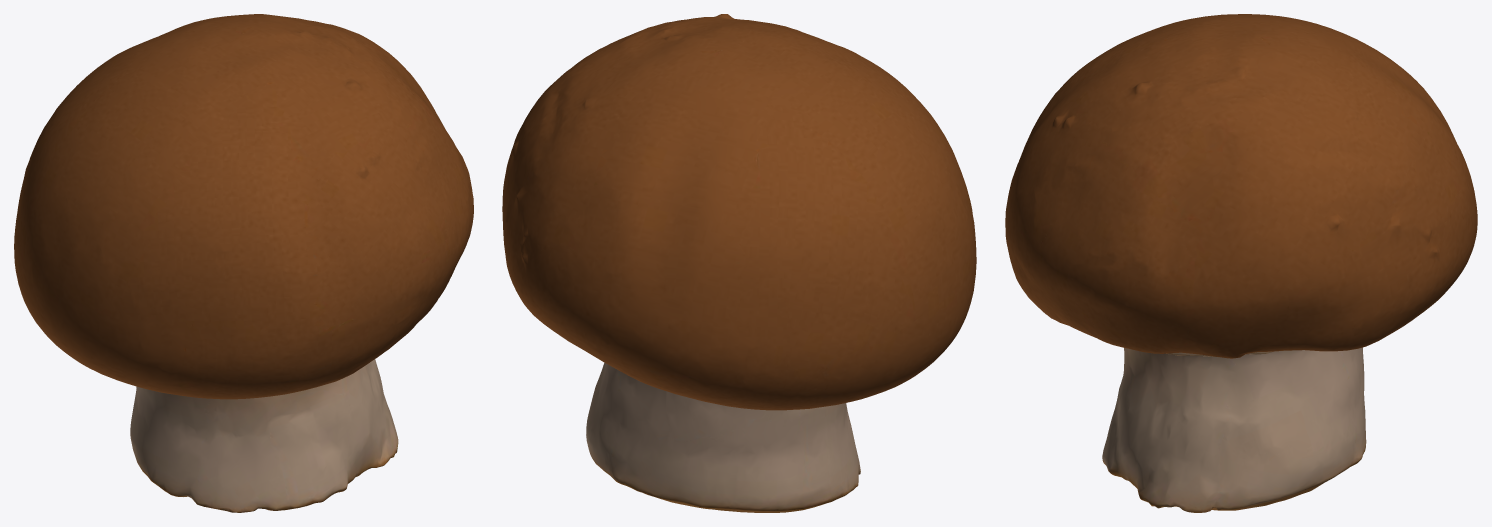
The model's file is mushroom.glb.
The picture shows the model from 3 angles, left to right: view 1: azimuth 30°, elevation 25°; view 2: azimuth 150°, elevation 25°; view 3: azimuth 270°, elevation 25°; orthographic projection. The views are drawn at different scales.
Parts seen in each view (by area): view 1: tripo_node_0fa16f47-619a-406b-b529-292bec743e19; view 2: tripo_node_0fa16f47-619a-406b-b529-292bec743e19; view 3: tripo_node_0fa16f47-619a-406b-b529-292bec743e19.
Part boxes in pixels (x1=…): tripo_node_0fa16f47-619a-406b-b529-292bec743e19: x1=14, y1=14, x2=473, y2=512; tripo_node_0fa16f47-619a-406b-b529-292bec743e19: x1=502, y1=14, x2=976, y2=512; tripo_node_0fa16f47-619a-406b-b529-292bec743e19: x1=1005, y1=14, x2=1477, y2=512.
Bounding box in the file's own units: 0.9872 × 1 × 0.989.
Materials: 1 (1 with a texture image).
